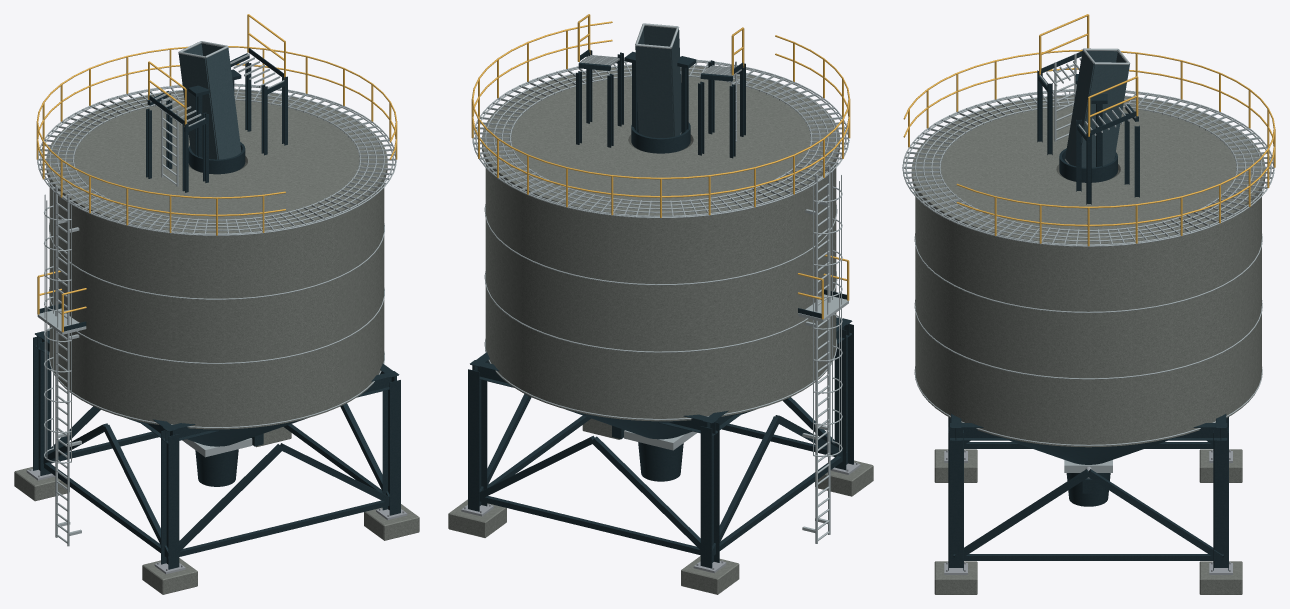
File: mine-coal-silo-1.glb
3 views of the same model, side by side, from view 1: azimuth 30°, elevation 25°; view 2: azimuth 150°, elevation 25°; view 3: azimuth 270°, elevation 25° (orthographic). The views are drawn at different scales.
Parts seen in each view (by area): view 1: Transport_concrete, Transport_steel, Transport_trim, Transport_safety, Transport_roof, Transport_machined; view 2: Transport_concrete, Transport_steel, Transport_trim, Transport_safety, Transport_roof, Transport_machined; view 3: Transport_concrete, Transport_steel, Transport_trim, Transport_safety, Transport_roof, Transport_machined.
Part boxes in pixels (x1,y1,x2,y2): Transport_concrete: [14, 90, 419, 594]; Transport_steel: [33, 48, 400, 569]; Transport_trim: [37, 41, 396, 546]; Transport_safety: [36, 14, 397, 332]; Transport_roof: [178, 43, 241, 159]; Transport_machined: [26, 468, 407, 574]; Transport_concrete: [448, 66, 873, 594]; Transport_steel: [468, 49, 853, 568]; Transport_trim: [472, 23, 849, 543]; Transport_safety: [471, 14, 850, 319]; Transport_roof: [635, 26, 681, 137]; Transport_machined: [461, 462, 860, 573]; Transport_concrete: [911, 95, 1265, 594]; Transport_steel: [948, 51, 1228, 570]; Transport_trim: [902, 48, 1274, 472]; Transport_safety: [903, 14, 1275, 246]; Transport_roof: [1065, 50, 1129, 167]; Transport_machined: [944, 450, 1232, 574].
Bounding box in the file's own units: 9.59 × 13.04 × 9.15.
6 materials, 3 textured.
